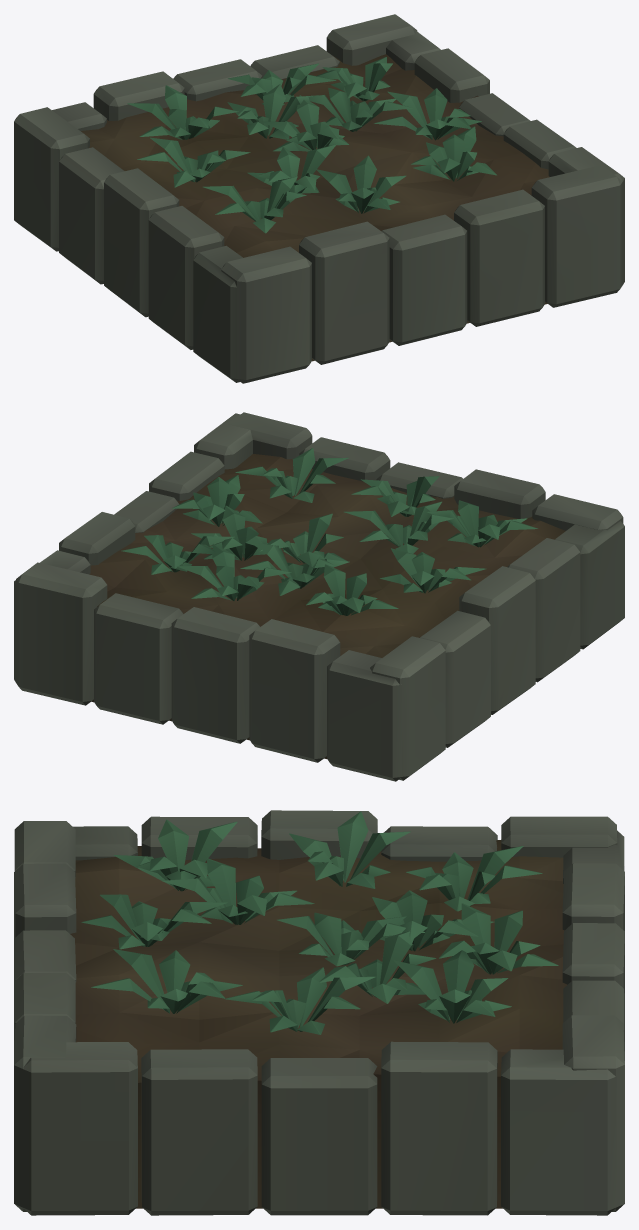
File: skyreach-garden-bed-v1.glb
The picture shows the model from 3 angles, top to bottom: view 1: azimuth 30°, elevation 25°; view 2: azimuth 150°, elevation 25°; view 3: azimuth 270°, elevation 25°; orthographic projection. The views are drawn at different scales.
Parts seen in each view (by area): view 1: GB_GARDEN_BED_STONE, GB_GARDEN_BED_SOIL, GB_GARDEN_BED_LEAVES; view 2: GB_GARDEN_BED_STONE, GB_GARDEN_BED_SOIL, GB_GARDEN_BED_LEAVES; view 3: GB_GARDEN_BED_STONE, GB_GARDEN_BED_SOIL, GB_GARDEN_BED_LEAVES.
Boxes of the visible parts, x1,y1,x2,y2 form: GB_GARDEN_BED_STONE: (14,14,624,383); GB_GARDEN_BED_SOIL: (81,54,549,361); GB_GARDEN_BED_LEAVES: (127,57,496,233); GB_GARDEN_BED_STONE: (14,412,624,781); GB_GARDEN_BED_SOIL: (89,454,565,758); GB_GARDEN_BED_LEAVES: (121,448,537,615); GB_GARDEN_BED_STONE: (14,810,624,1215); GB_GARDEN_BED_SOIL: (70,840,567,1208); GB_GARDEN_BED_LEAVES: (81,811,558,1034).
Bounding box in the file's own units: 3.01 × 0.9629 × 3.01.
